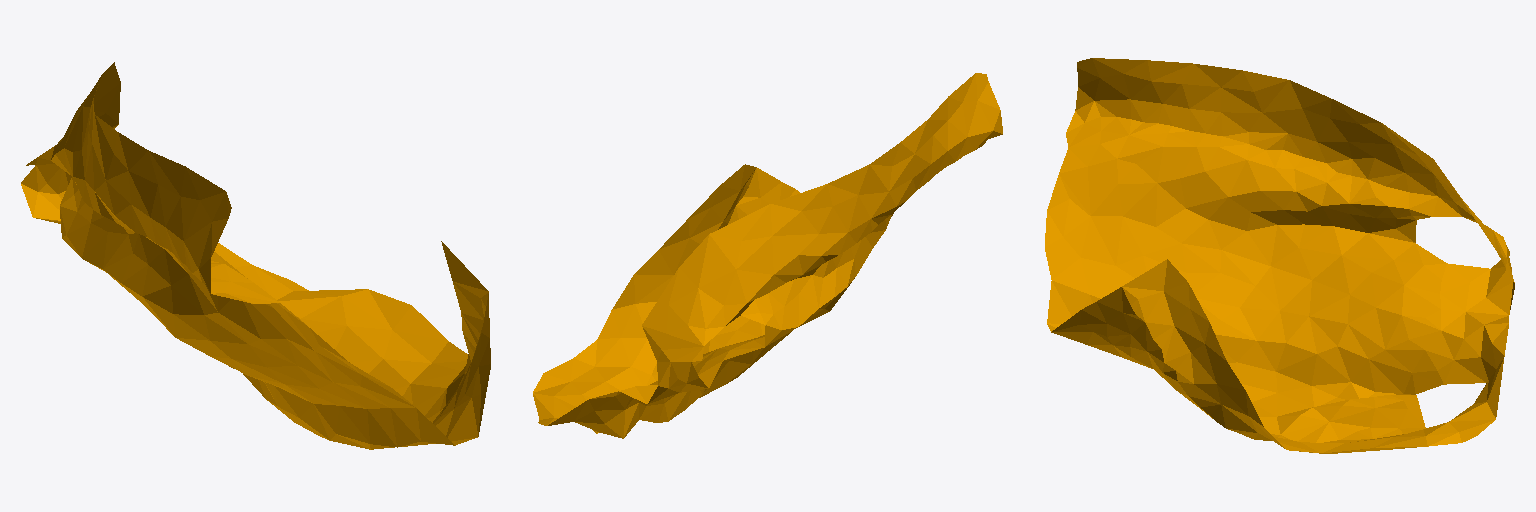
The robot description file, URDF, robot "init":
<?xml version='1.0' encoding='utf-8'?>
<robot name="init">
<link name="link_0"><inertial><mass value="1.0" /><origin rpy="0 0 0" xyz="0.000000 0.000000 0.000000" /><inertia ixx="1.0" ixy="0.0" ixz="0.0" iyy="1.0" iyz="0.0" izz="1.0" /></inertial><visual><origin rpy="0 0 0" xyz="0.000000 0.000000 0.000000" /><geometry><mesh filename="./clothHuman/cloth/656.obj" /></geometry></visual><collision><origin rpy="0 0 0" xyz="0.000000 0.000000 0.000000" /><geometry><mesh filename="./clothHuman/cloth/656.obj" /></geometry></collision></link></robot>

--- Render facts (derived) ---
3 views of the same robot in one strip: view 1: azimuth 30°, elevation 25°; view 2: azimuth 150°, elevation 25°; view 3: azimuth 270°, elevation 25° (orthographic).
Model init with 1 links and 0 joints (none), rooted at link_0, posed all joints at 0.
Visible links, largest first — view 1: link_0; view 2: link_0; view 3: link_0.
Boxes of the visible links, box(x1,y1,x2,y2) form: link_0: box(21, 62, 490, 449); link_0: box(533, 73, 1002, 438); link_0: box(1045, 58, 1514, 453).
Bounding box of the posed robot: 2.83 × 3.88 × 2.57 m (x, y, z).
Meshes: 1 distinct files referenced, 1 mesh visuals loaded (1 OBJ).